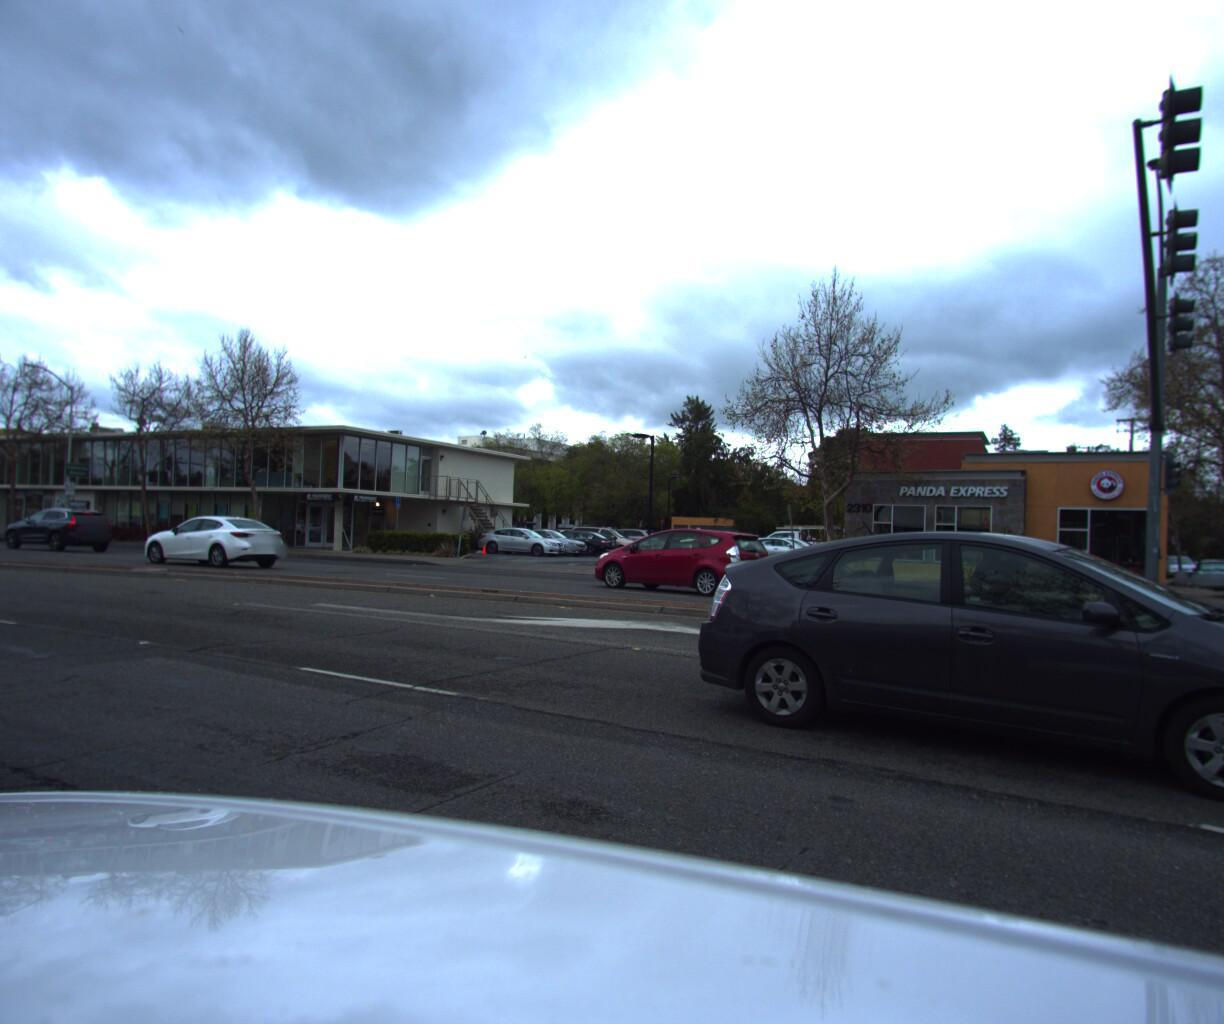car: (657, 517, 1224, 847), (582, 531, 777, 608), (132, 519, 290, 579), (0, 513, 117, 562), (1179, 570, 1224, 603), (1153, 564, 1198, 588), (0, 518, 3, 552)
